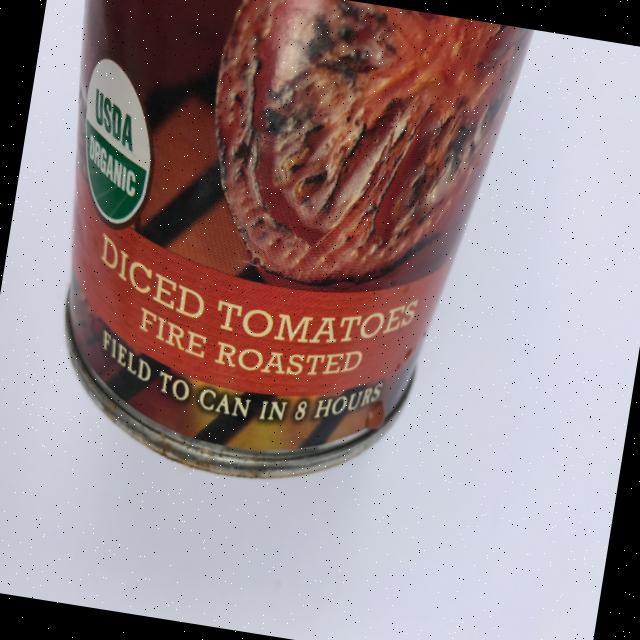metal: (10, 0, 534, 512)
